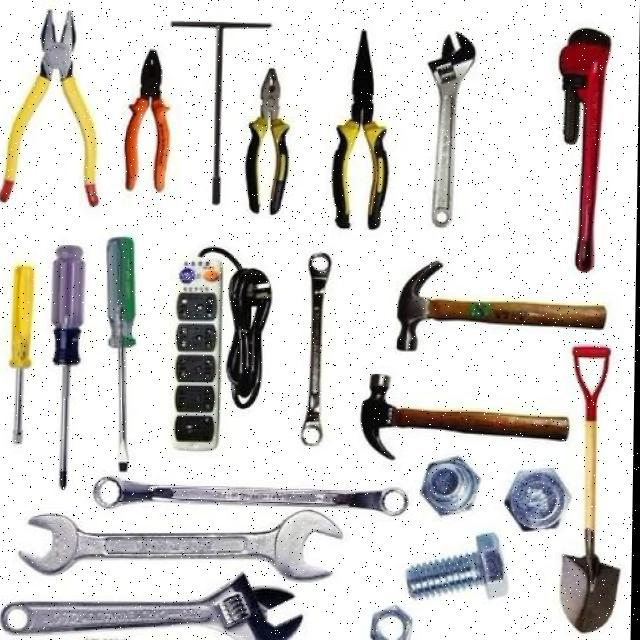Screwdriver: (53, 246, 86, 489), (107, 237, 137, 472), (11, 266, 36, 444)
